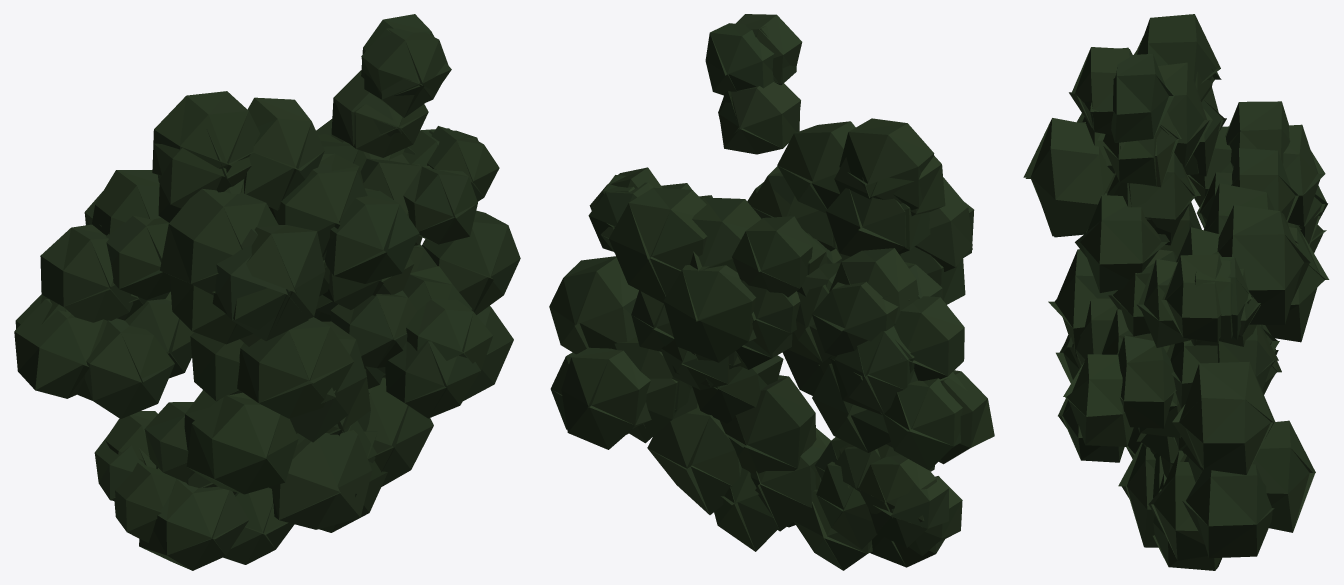
File: tree_m2_far.obj
The picture shows the model from 3 angles, left to right: view 1: azimuth 30°, elevation 25°; view 2: azimuth 150°, elevation 25°; view 3: azimuth 270°, elevation 25°; orthographic projection. The views are drawn at different scales.
Size of the model in its own units: 1.74 by 1.85 by 0.9433.
Materials: 1 (1 with a texture image).
